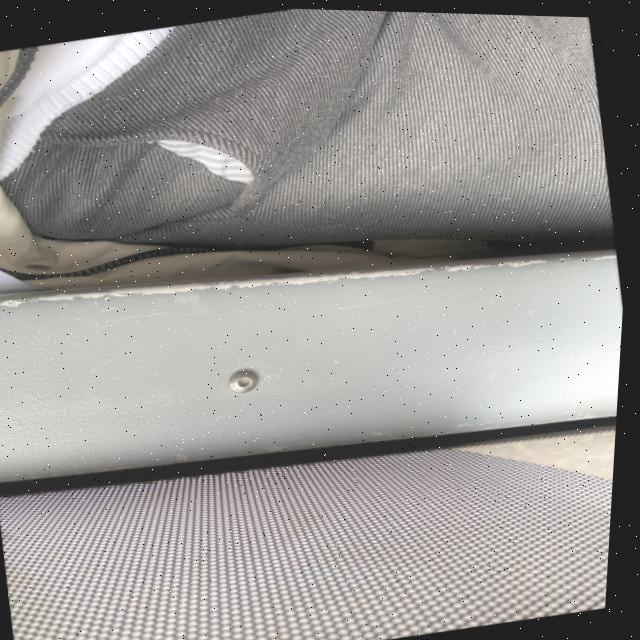Hex Socket Allen: (228, 367, 260, 394)
